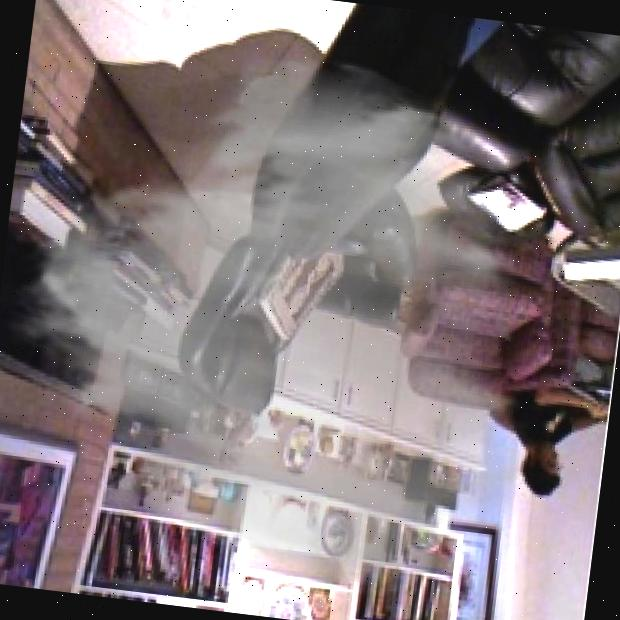smoke: (0, 18, 579, 618)
